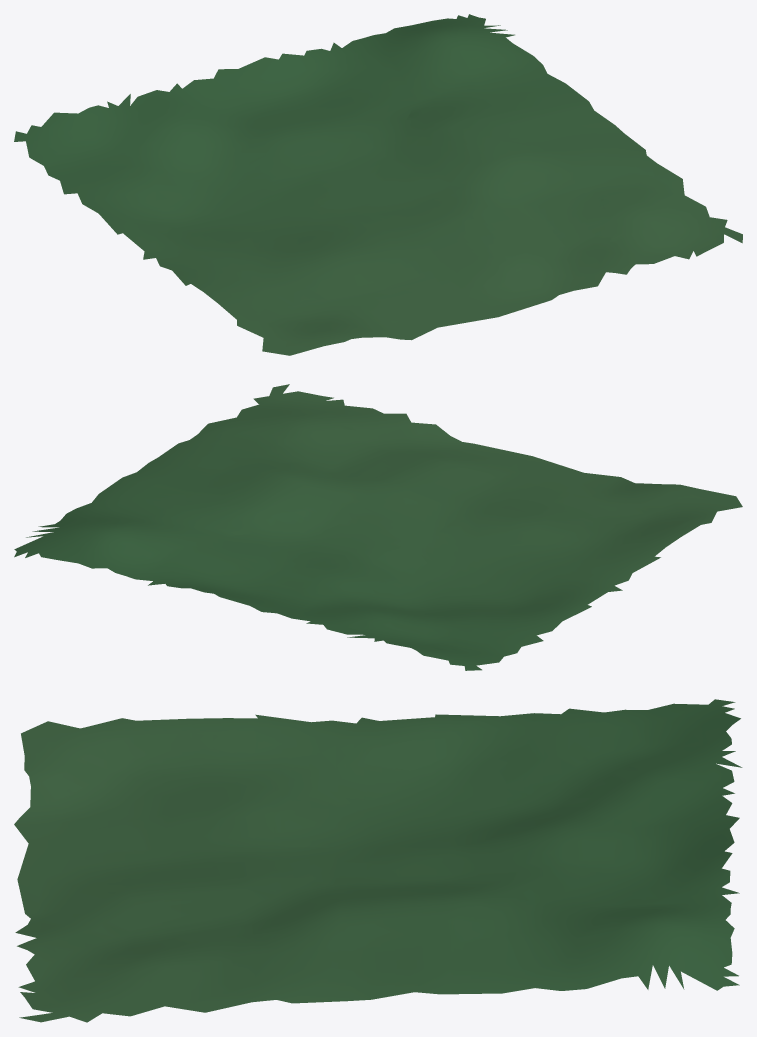
The model's file is payo_land_x3_y8.glb.
3 renders of one model, top to bottom at view 1: azimuth 30°, elevation 25°; view 2: azimuth 150°, elevation 25°; view 3: azimuth 270°, elevation 25°, orthographic. The views are drawn at different scales.
Visible parts, largest first — view 1: payo_land_x3_y8; view 2: payo_land_x3_y8; view 3: payo_land_x3_y8.
Part boxes in pixels (box(x1,y1,x2,y2)): payo_land_x3_y8: box(14, 14, 742, 355); payo_land_x3_y8: box(14, 384, 742, 670); payo_land_x3_y8: box(14, 699, 742, 1022).
Size of the model in its own units: 265 by 29.96 by 265.
